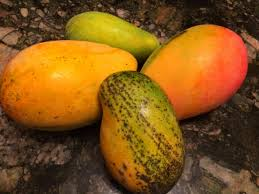mango: (142, 6, 255, 120), (2, 40, 137, 133), (97, 77, 187, 194)
